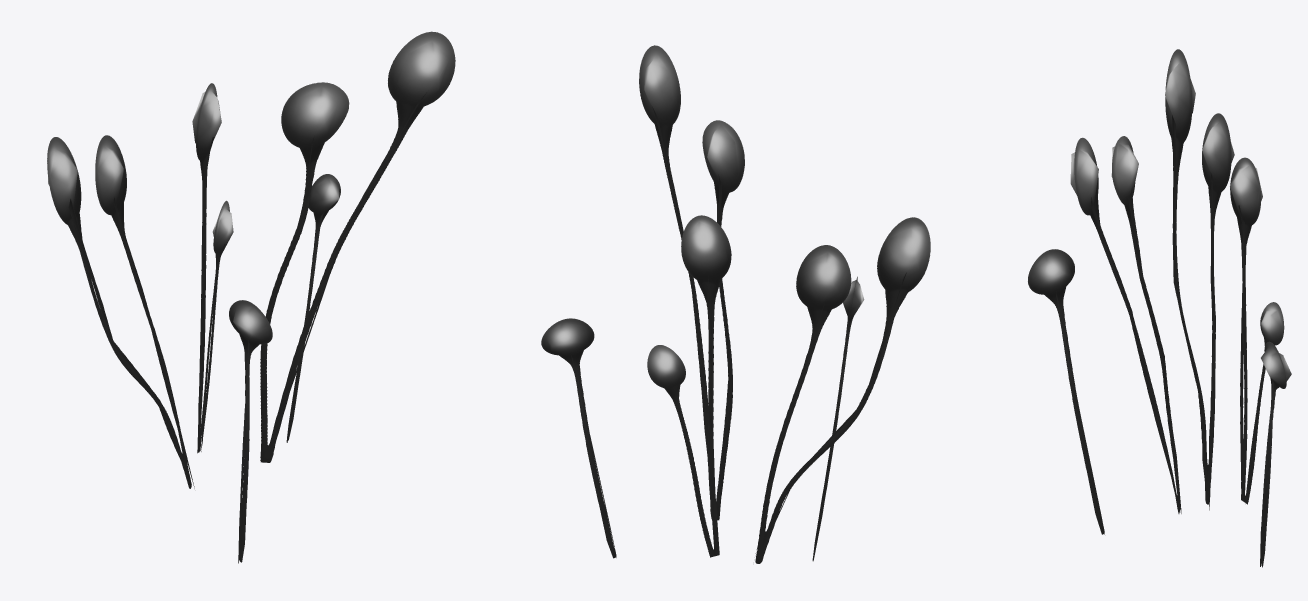
File: MEP_Lumie_Grp_01.fbx
The picture shows the model from 3 angles, left to right: view 1: azimuth 30°, elevation 25°; view 2: azimuth 150°, elevation 25°; view 3: azimuth 270°, elevation 25°; orthographic projection. The views are drawn at different scales.
Visible parts, largest first — view 1: MEP_Lumie_Grp_01; view 2: MEP_Lumie_Grp_01; view 3: MEP_Lumie_Grp_01.
Part boxes in pixels (box(x1,y1,x2,y2)): MEP_Lumie_Grp_01: box(47, 31, 455, 563); MEP_Lumie_Grp_01: box(541, 45, 930, 563); MEP_Lumie_Grp_01: box(1028, 49, 1291, 567).
Bounding box in the file's own units: 114 × 134 × 66.32.
1 material, 1 textured.
